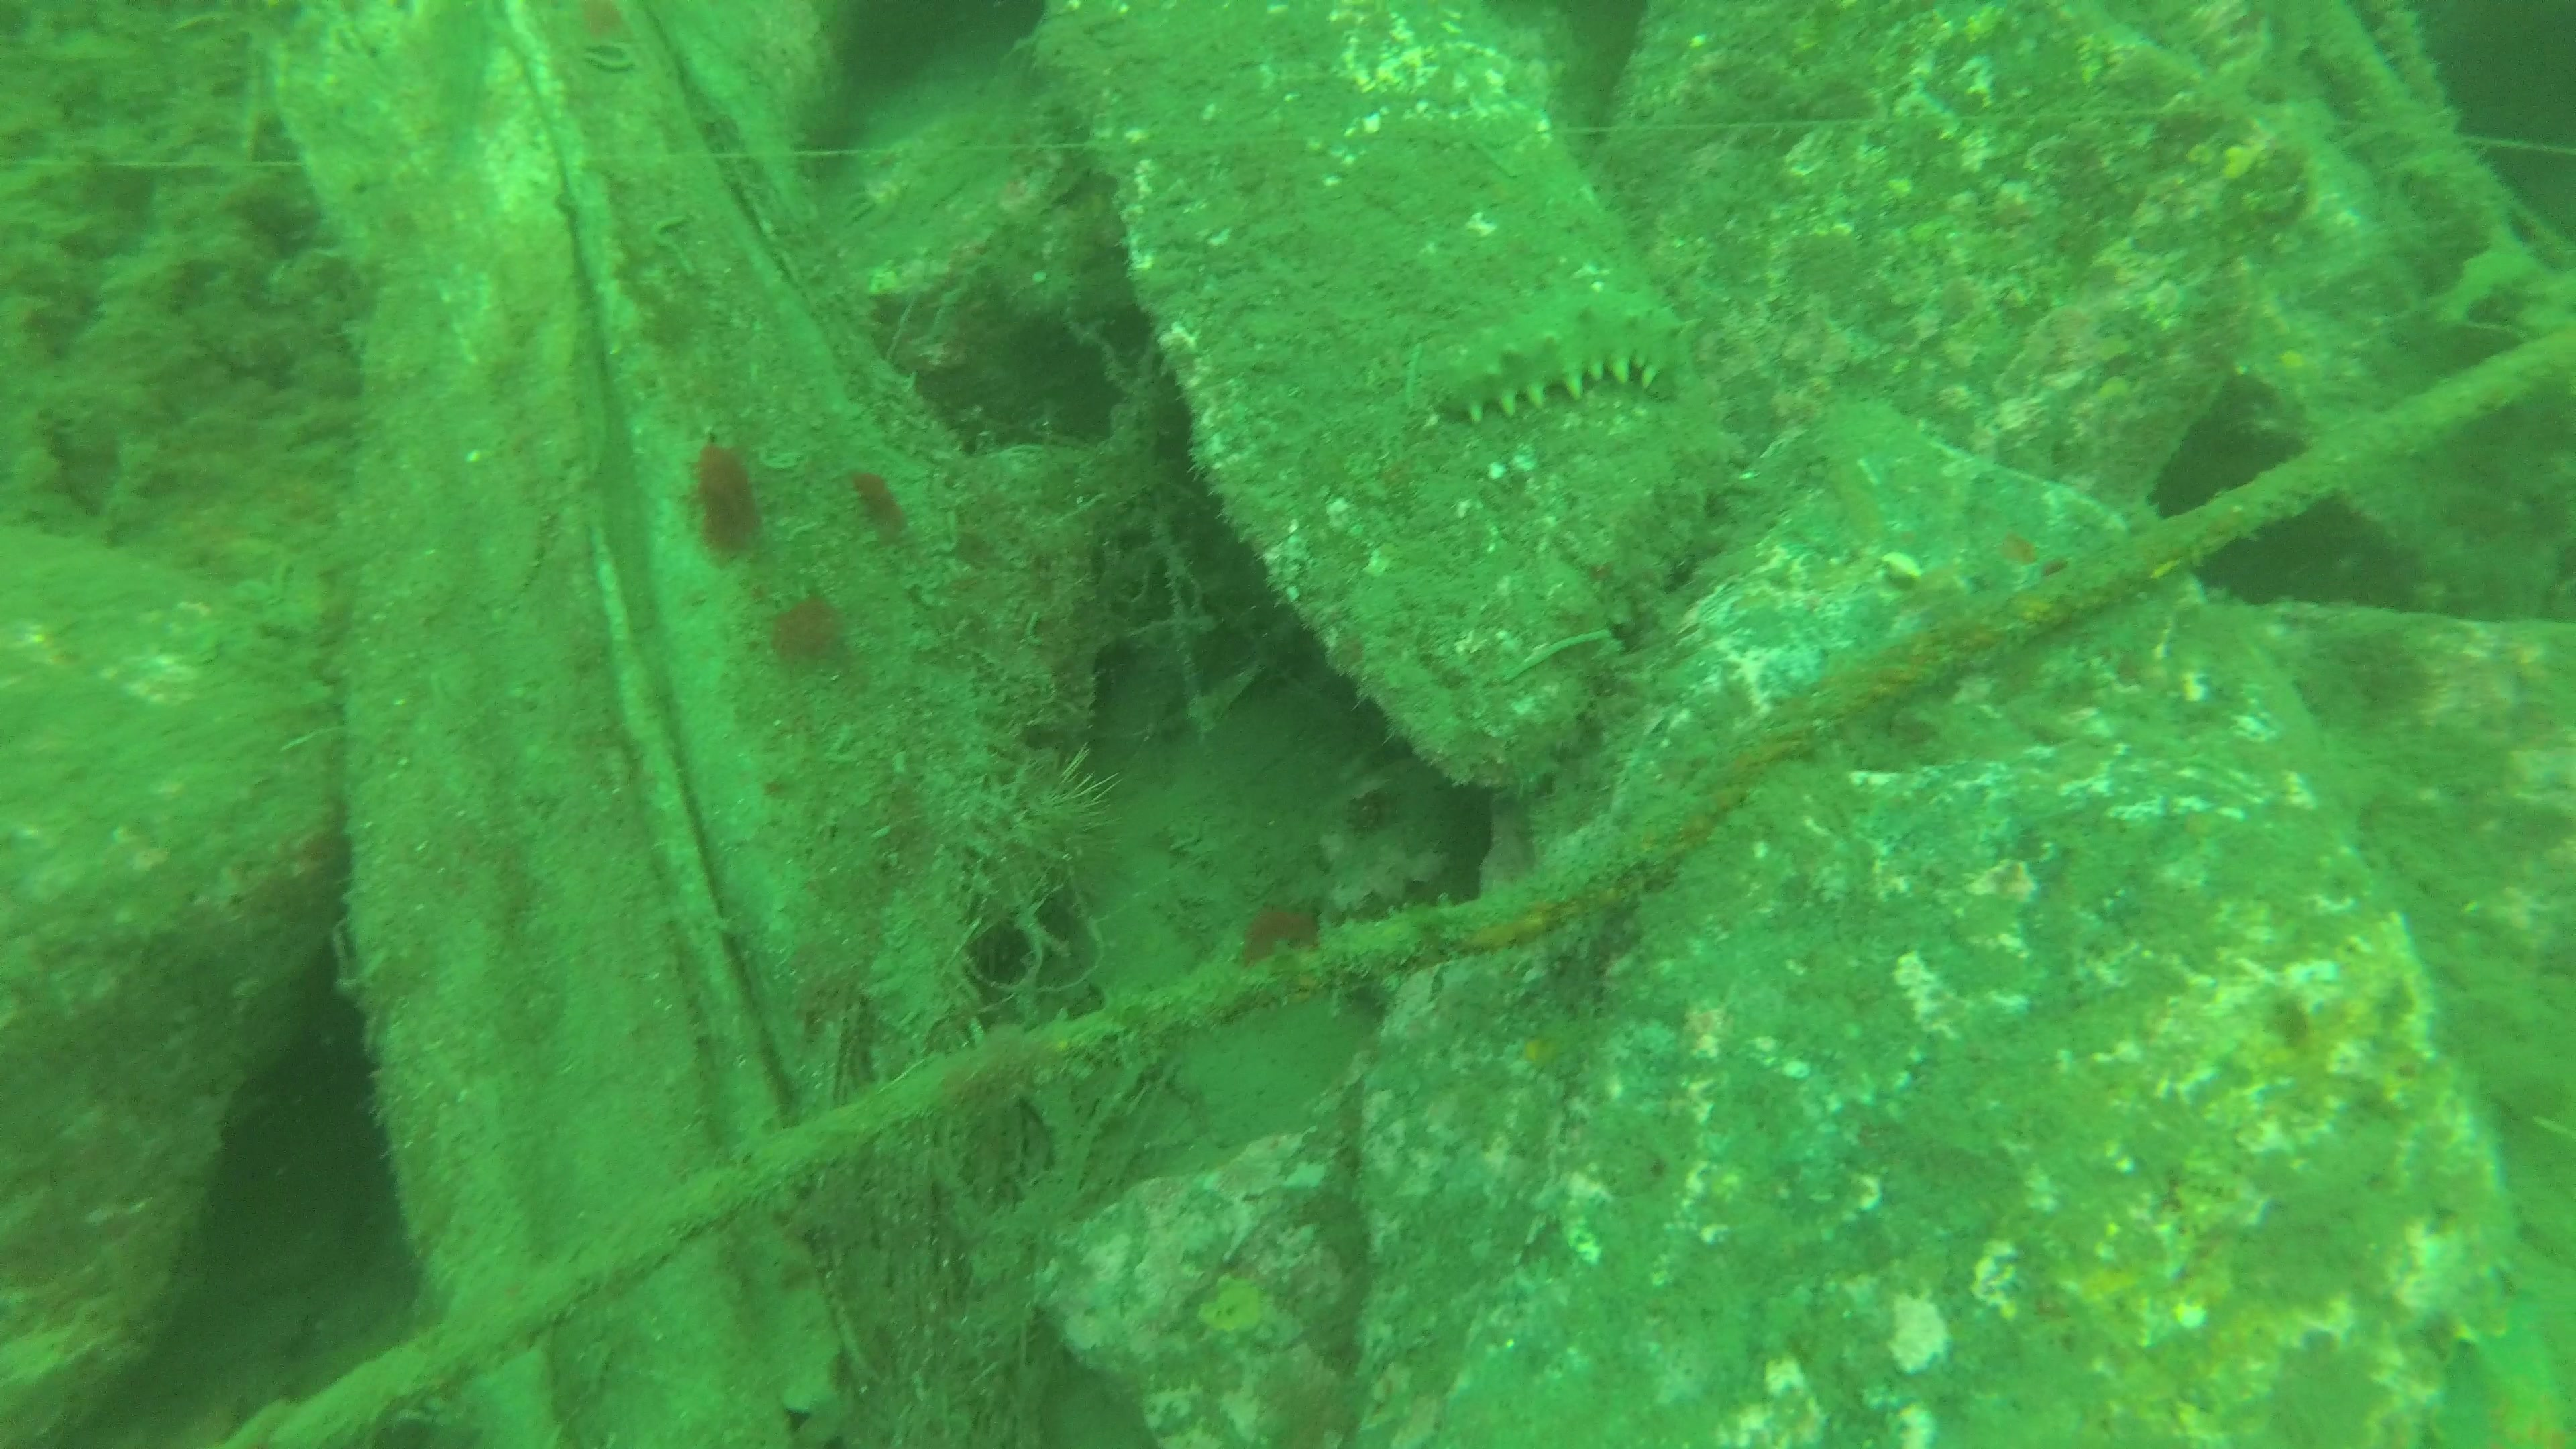holothurian: (1415, 288, 1691, 428)
